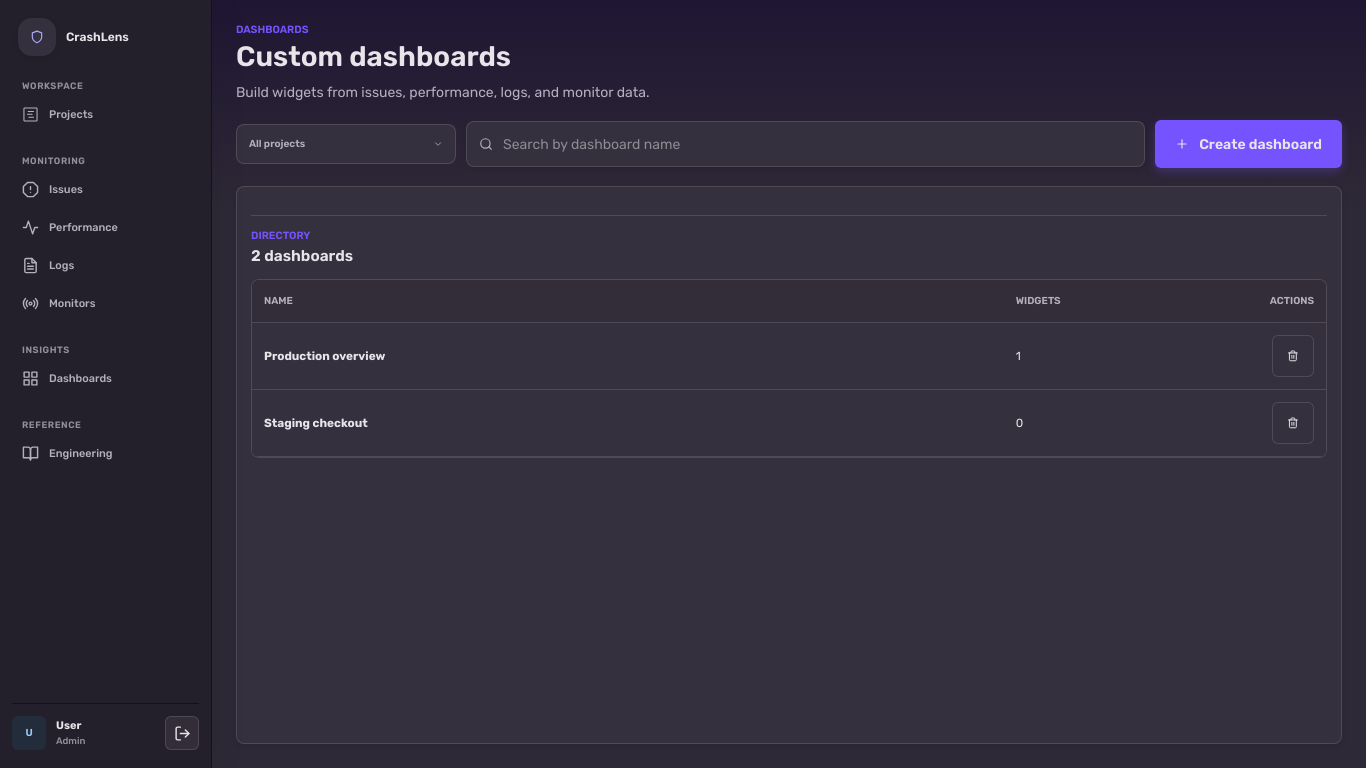
Test case: DashboardsPage › filters the visible list client-side by dashboard name search
The width and height of the screenshot is (1366, 768).
Check: the text "Production overview" is shown, box x1=264 y1=349 x2=385 y2=363
Check: the text "Staging checkout" is shown, box x1=264 y1=416 x2=368 y2=430
Type "staging" into the field with placeholder "Search by dashboard name" at point(818, 144), box x1=503 y1=135 x2=1132 y2=154
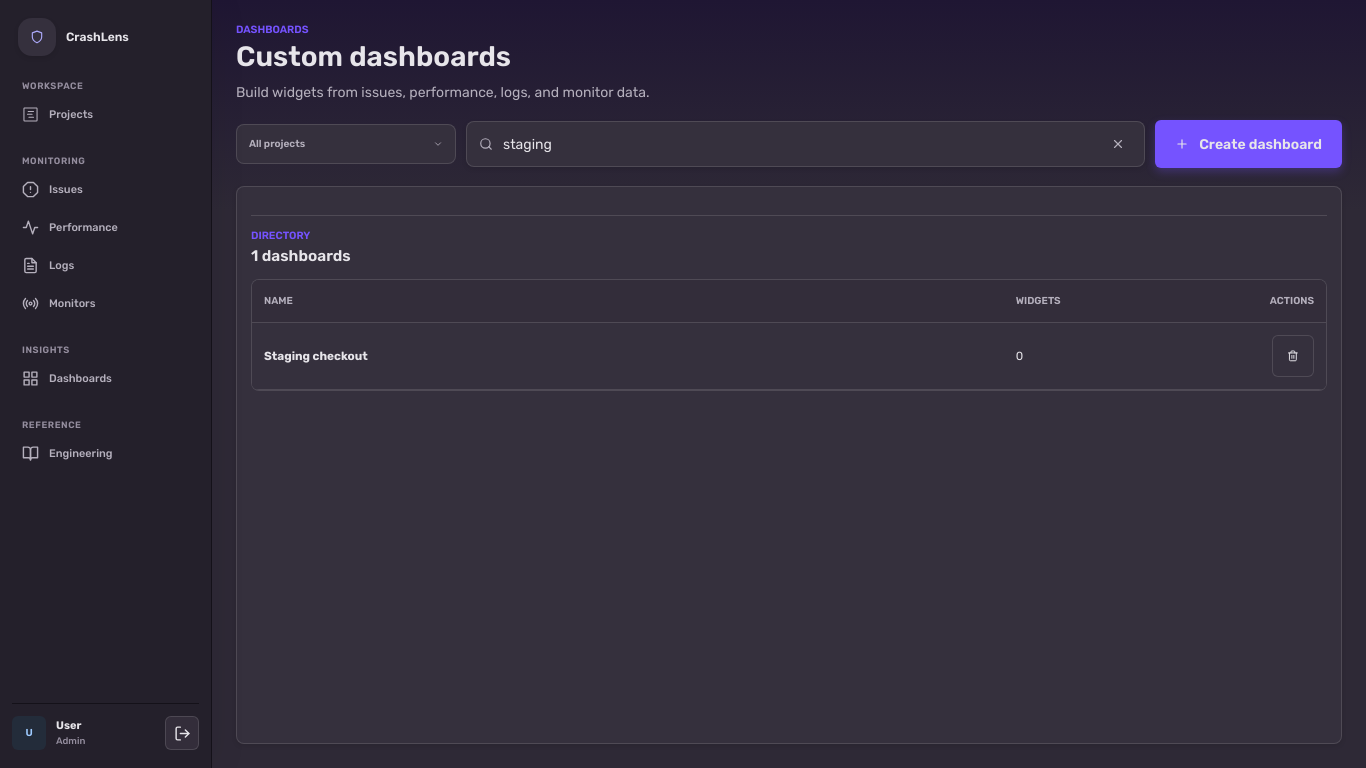
Check: the text "Staging checkout" is shown, box x1=264 y1=349 x2=368 y2=363
Check: the text "Production overview" is gone
